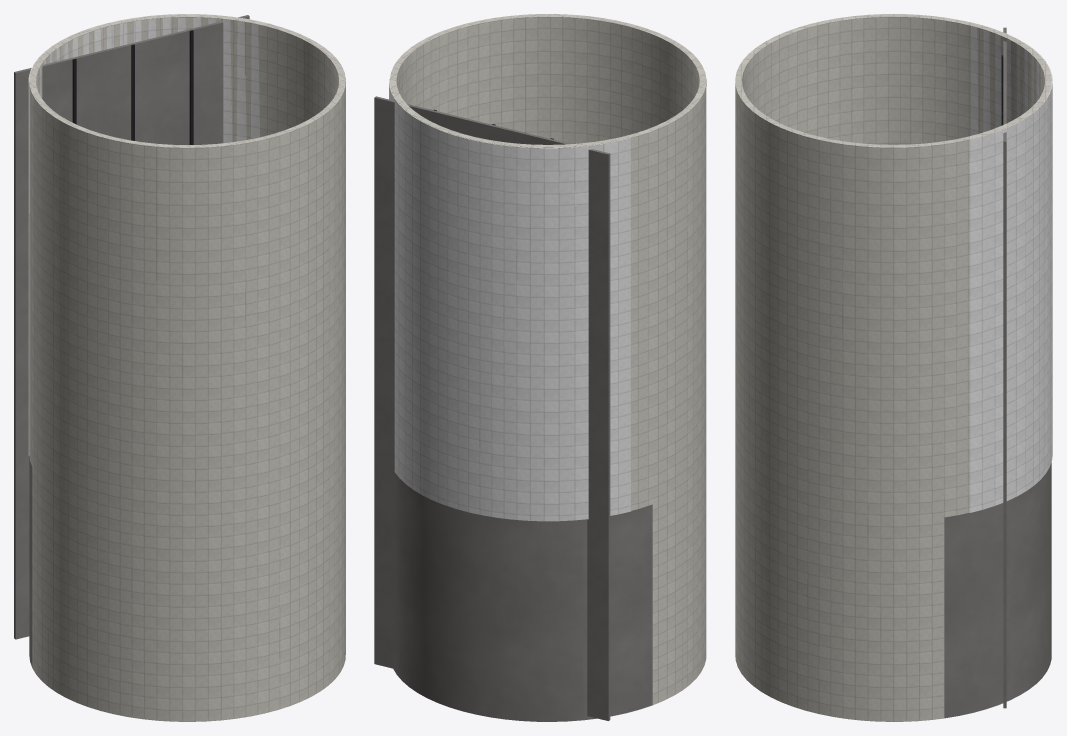
Rendered from aero03_cargo_bay_mk3_ramp_750.glb.
3 views of the same model, side by side, from view 1: azimuth 30°, elevation 25°; view 2: azimuth 150°, elevation 25°; view 3: azimuth 270°, elevation 25° (orthographic).
Visible parts, largest first — view 1: fuselage, cargo_floor, belly_tiles, floor_rails, ramp; view 2: belly_tiles, fuselage, ramp, cargo_floor; view 3: fuselage, belly_tiles, ramp, cargo_floor.
Boxes of the visible parts, left/top/right/bottom form: fuselage: left=29, top=14, right=345, bottom=721; cargo_floor: left=14, top=15, right=249, bottom=639; belly_tiles: left=28, top=14, right=270, bottom=455; floor_rails: left=72, top=30, right=193, bottom=144; ramp: left=29, top=456, right=32, bottom=667; belly_tiles: left=389, top=79, right=631, bottom=521; fuselage: left=389, top=14, right=706, bottom=704; ramp: left=393, top=474, right=652, bottom=721; cargo_floor: left=374, top=96, right=610, bottom=720; fuselage: left=735, top=14, right=1051, bottom=721; belly_tiles: left=969, top=22, right=1052, bottom=512; ramp: left=944, top=462, right=1051, bottom=718; cargo_floor: left=1003, top=27, right=1006, bottom=708.
Size of the model in its own units: 3.75 by 7.5 by 3.76.
4 materials, 3 textured.
